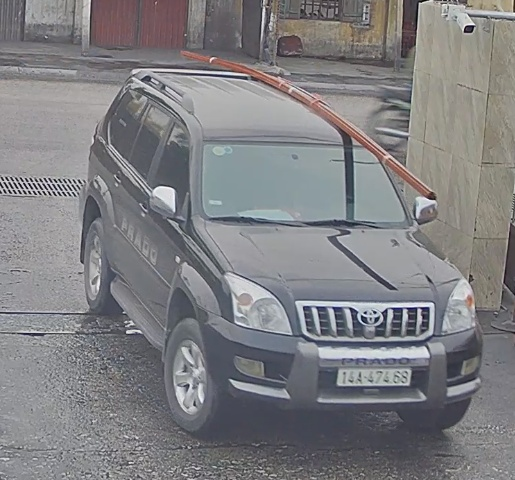vehicle plate: (332, 362, 415, 392)
